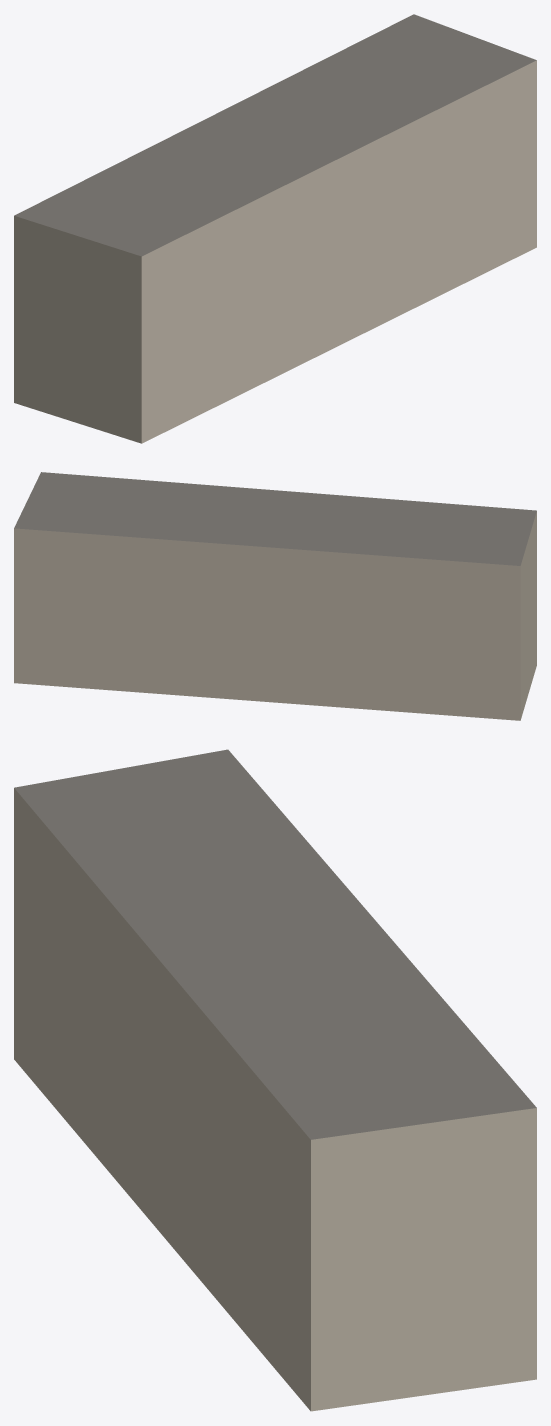
3 renders of one model, top to bottom at view 1: azimuth 30°, elevation 25°; view 2: azimuth 150°, elevation 25°; view 3: azimuth 270°, elevation 25°, orthographic. The views are drawn at different scales.
Parts seen in each view (by area): view 1: HP-w505655123; view 2: HP-w505655123; view 3: HP-w505655123.
Part boxes in pixels (<box>): HP-w505655123: <box>14,14,536,443</box>; HP-w505655123: <box>14,472,536,720</box>; HP-w505655123: <box>14,749,536,1411</box>.
Size of the model in its own units: 55.48 by 18 by 31.41.
